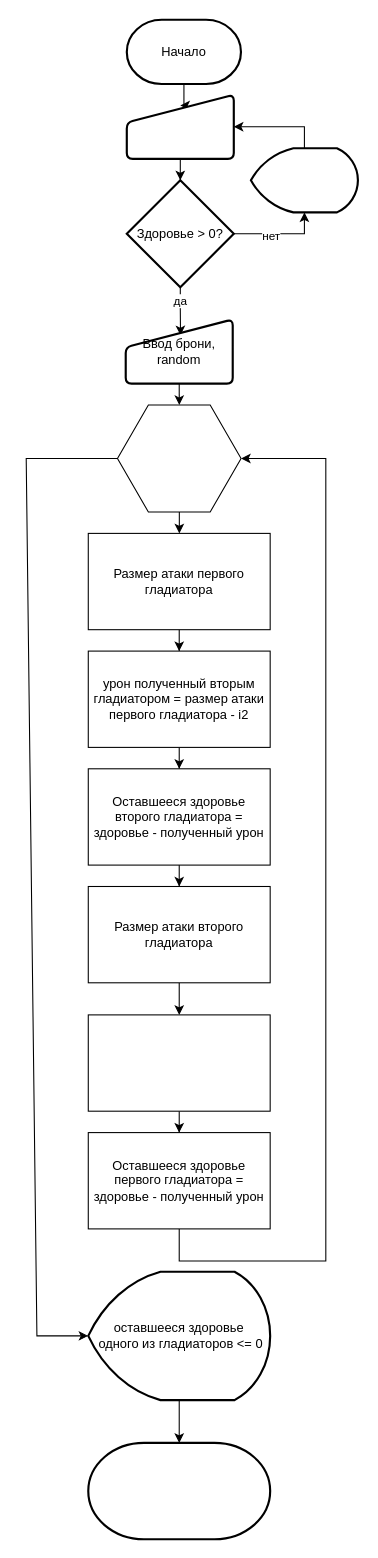
This 378x1558 diagram has some shape labels left out. Each missing label, with the box of its shape:
Здоровье: (125, 93, 234, 159)
Здоровье = n Броня = i: (116, 404, 241, 512)
Конец: (87, 1441, 271, 1540)
Повторите попытку: (249, 147, 358, 213)
урон полученный первым гладиатором = размер атаки второго гладиатора - i1: (87, 1014, 270, 1111)
